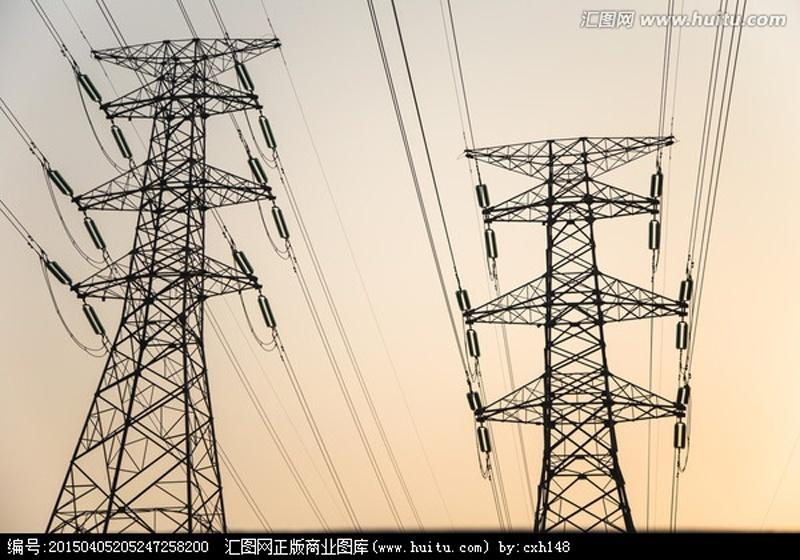power_tower: (19, 25, 292, 523), (442, 124, 702, 529)
